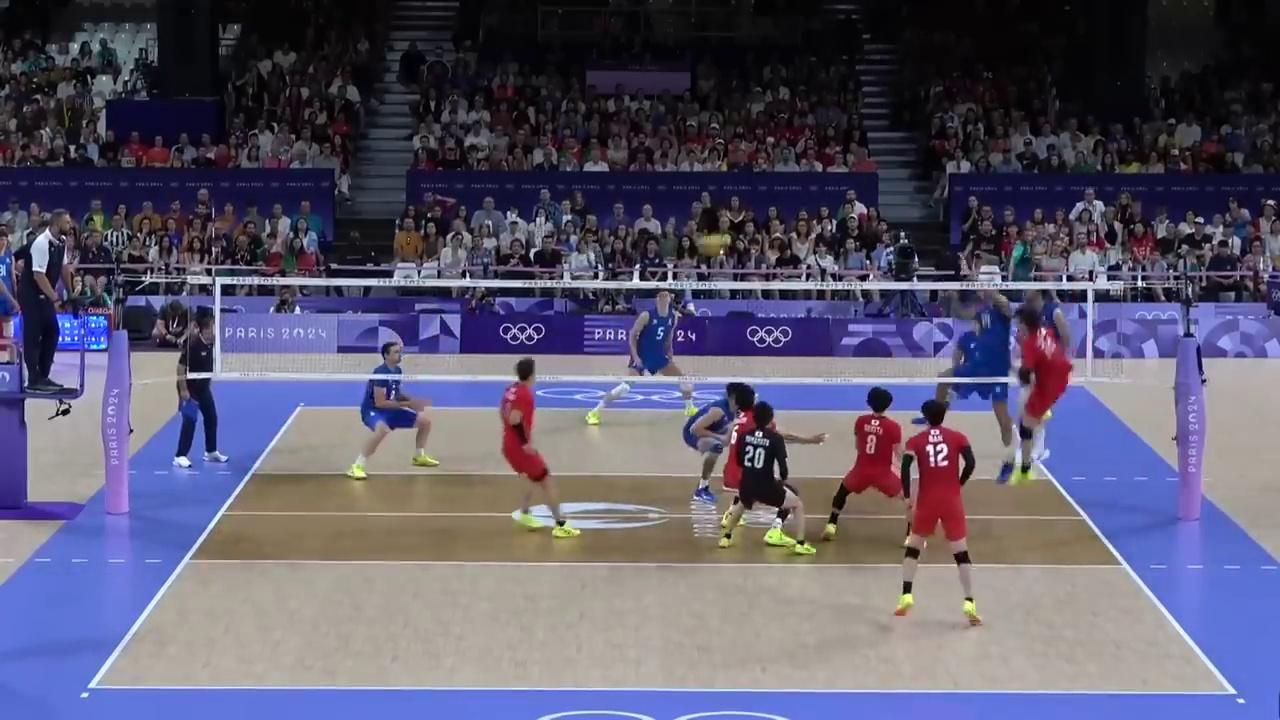ball: (695, 234, 728, 252)
